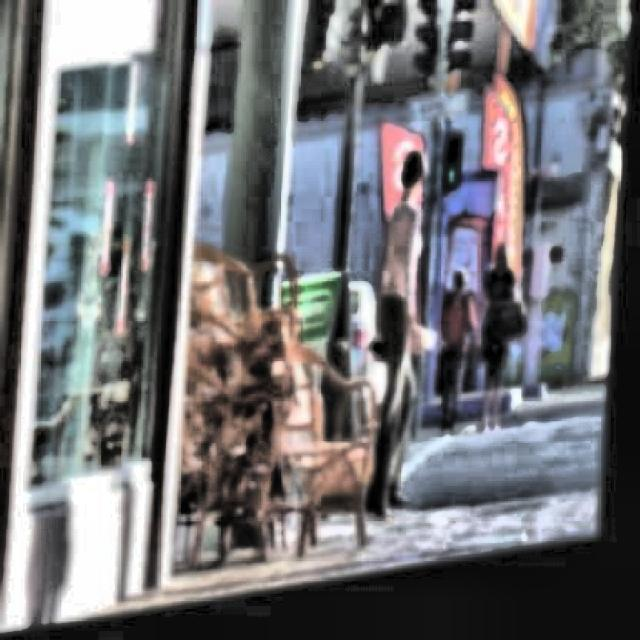semaforo pedestre: (431, 128, 477, 228)
